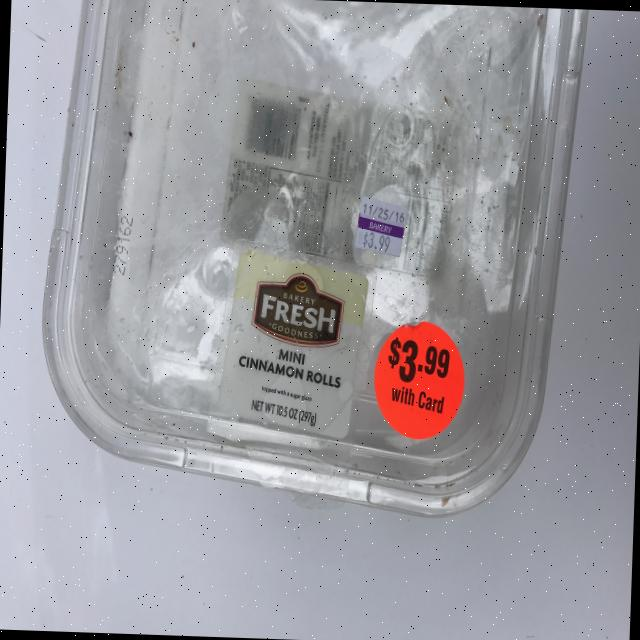plastic: (35, 0, 586, 520)
